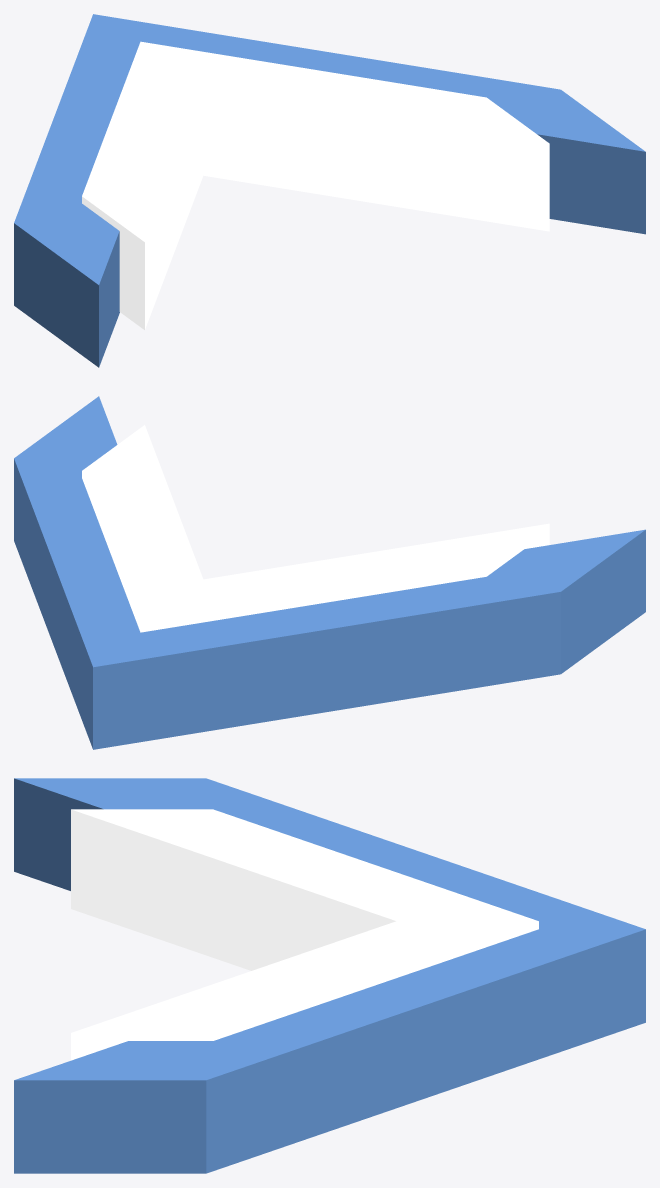
Rendered from nav_arrow.glb.
3 renders of one model, top to bottom at view 1: azimuth 30°, elevation 25°; view 2: azimuth 150°, elevation 25°; view 3: azimuth 270°, elevation 25°, orthographic. The views are drawn at different scales.
Parts seen in each view (by area): view 1: nav_arrow; view 2: nav_arrow; view 3: nav_arrow.
Boxes of the visible parts, x1=… form: nav_arrow: x1=14, y1=14, x2=645, y2=367; nav_arrow: x1=14, y1=396, x2=645, y2=749; nav_arrow: x1=14, y1=778, x2=645, y2=1173.
Size of the model in its own units: 0.52 by 0.0815 by 0.46.
